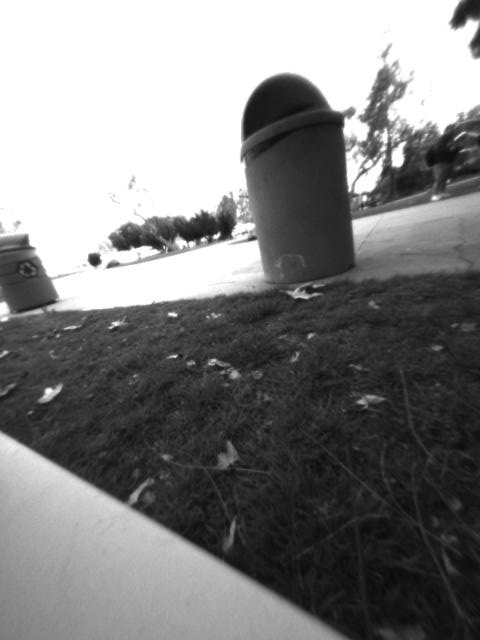trashcan: (241, 71, 359, 280)
